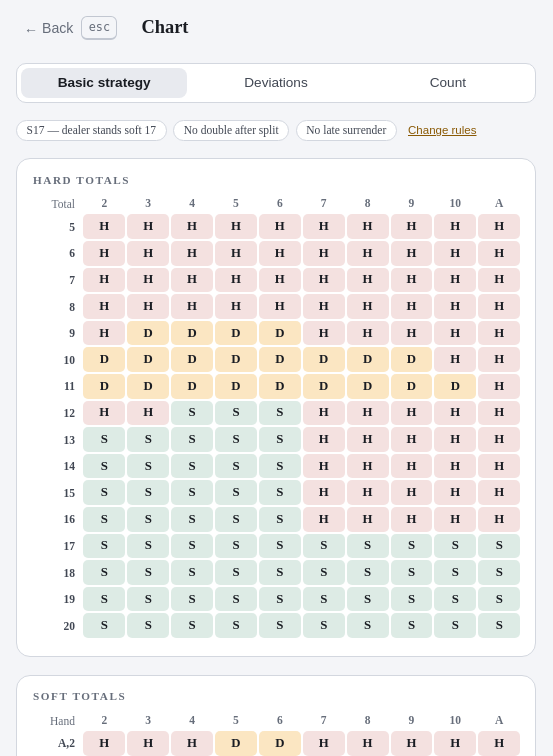
Test: ChartPageComponent › the count tab › lays out the published key counts for the shoe the drill is set to
This screenshot has width=553, height=756.
Click the button "Count" at (448, 83), box [365,68,531,98]
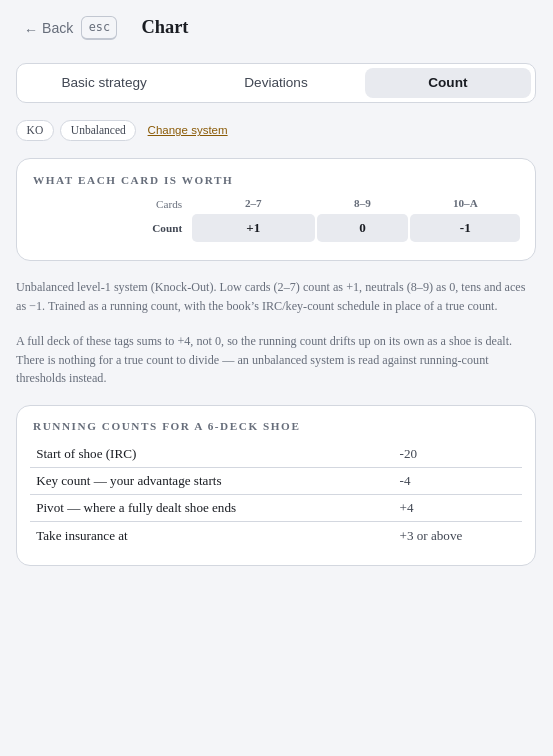
expect the text "Running counts for a 6-deck shoe" is shown: met, box [33,420,300,432]
expect the row "Start of shoe (IRC) -20" is shown: met, box [30,441,522,468]
expect the row "Key count — your advantage starts -4" is shown: met, box [30,468,522,495]
